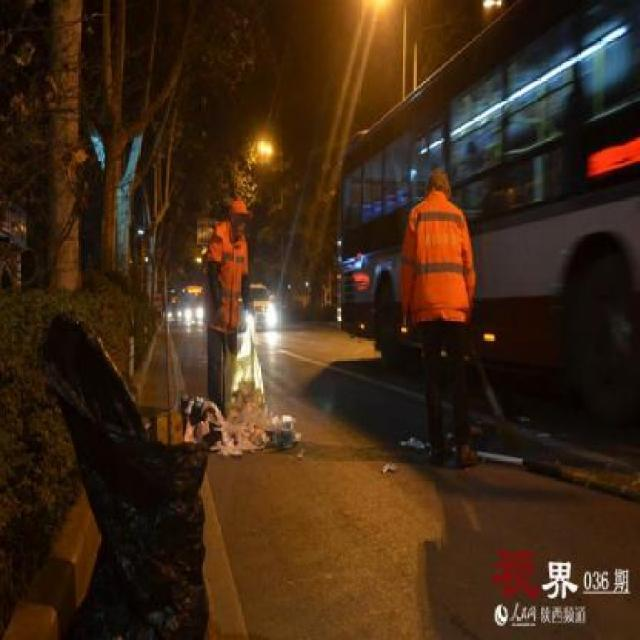garbage: (49, 317, 208, 640), (180, 388, 301, 457), (222, 315, 266, 390), (477, 442, 548, 472), (400, 431, 430, 456), (382, 458, 396, 474)
